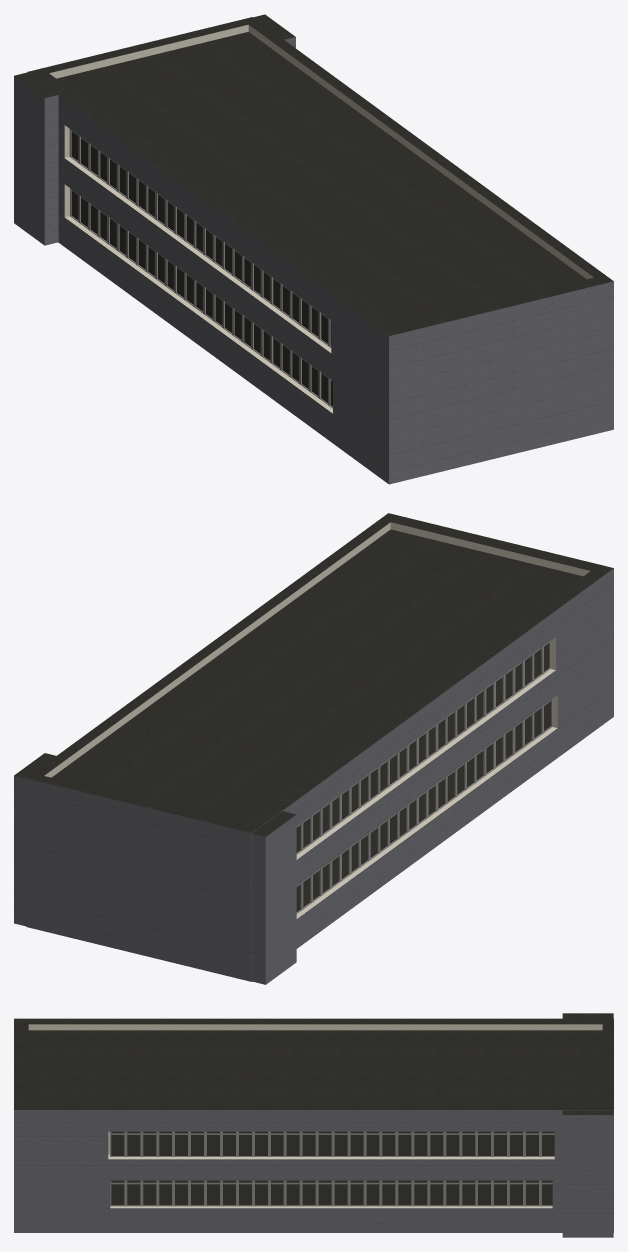
File: corp2.gltf
3 renders of one model, top to bottom at view 1: azimuth 30°, elevation 25°; view 2: azimuth 150°, elevation 25°; view 3: azimuth 270°, elevation 25°, orthographic. The views are drawn at different scales.
Parts seen in each view (by area): view 1: corp4_StaticMeshComponent0; view 2: corp4_StaticMeshComponent0; view 3: corp4_StaticMeshComponent0, window771_StaticMeshComponent0, window772_StaticMeshComponent0, window773_StaticMeshComponent0, window781_StaticMeshComponent0, window782_StaticMeshComponent0, window783_StaticMeshComponent0, window790_StaticMeshComponent0, window791_StaticMeshComponent0, window792_StaticMeshComponent0, window768_StaticMeshComponent0, window769_StaticMeshComponent0 (+45 smaller).
Part boxes in pixels (left/top/right/bottom): corp4_StaticMeshComponent0: left=14, top=14, right=613, bottom=484; corp4_StaticMeshComponent0: left=14, top=513, right=613, bottom=984; corp4_StaticMeshComponent0: left=14, top=1013, right=613, bottom=1237; window771_StaticMeshComponent0: left=460, top=1180, right=476, bottom=1206; window772_StaticMeshComponent0: left=444, top=1180, right=460, bottom=1206; window773_StaticMeshComponent0: left=428, top=1180, right=444, bottom=1206; window781_StaticMeshComponent0: left=301, top=1180, right=317, bottom=1206; window782_StaticMeshComponent0: left=285, top=1180, right=301, bottom=1206; window783_StaticMeshComponent0: left=269, top=1180, right=285, bottom=1206; window790_StaticMeshComponent0: left=157, top=1180, right=173, bottom=1206; window791_StaticMeshComponent0: left=141, top=1180, right=157, bottom=1206; window792_StaticMeshComponent0: left=125, top=1180, right=141, bottom=1206; window768_StaticMeshComponent0: left=508, top=1180, right=524, bottom=1206; window769_StaticMeshComponent0: left=492, top=1180, right=508, bottom=1206.
Bounding box in the file's own units: 15.1 × 8.52 × 37.62.
Materials: 6 (4 with a texture image).
